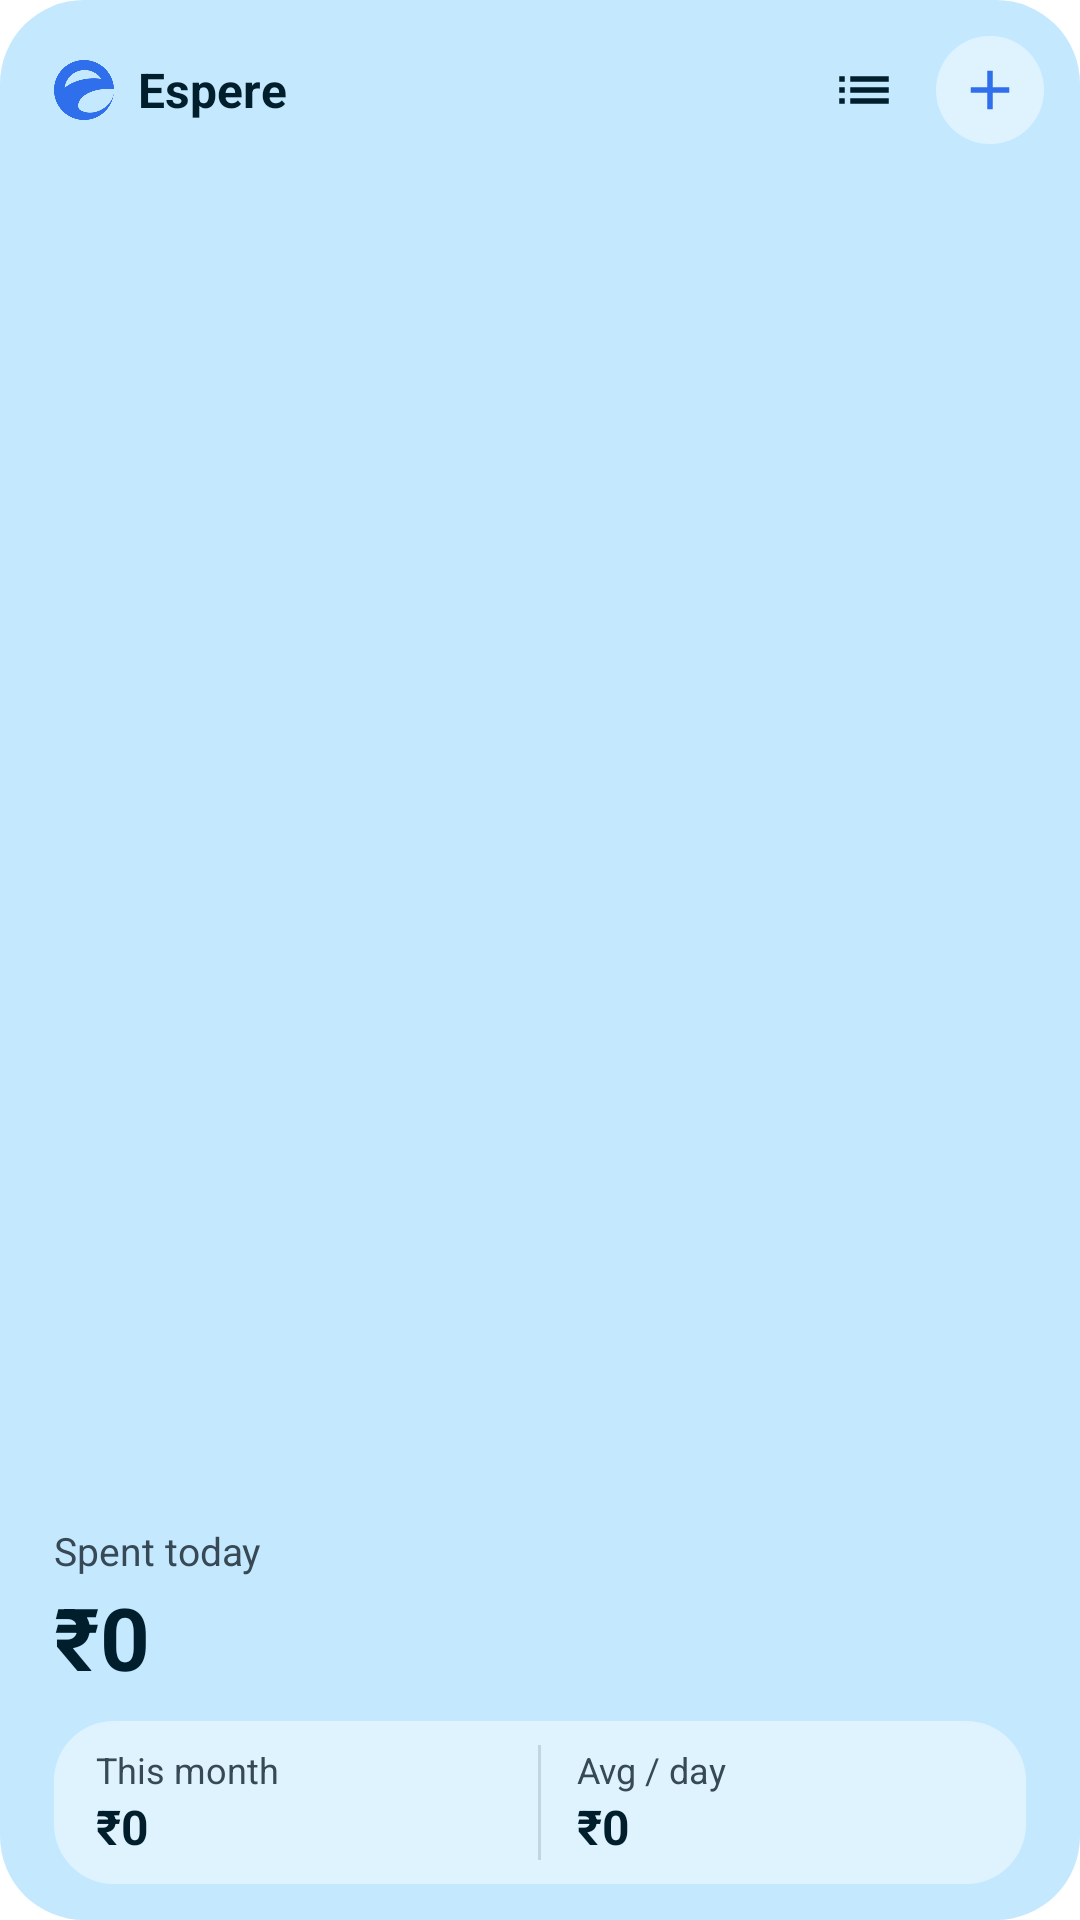

Icon bounding boxes for this 1080w x 1920h phone screenshot, format (x1, y1, x2, y2):
list: (839, 76, 889, 104)
plus: (970, 70, 1010, 110)
